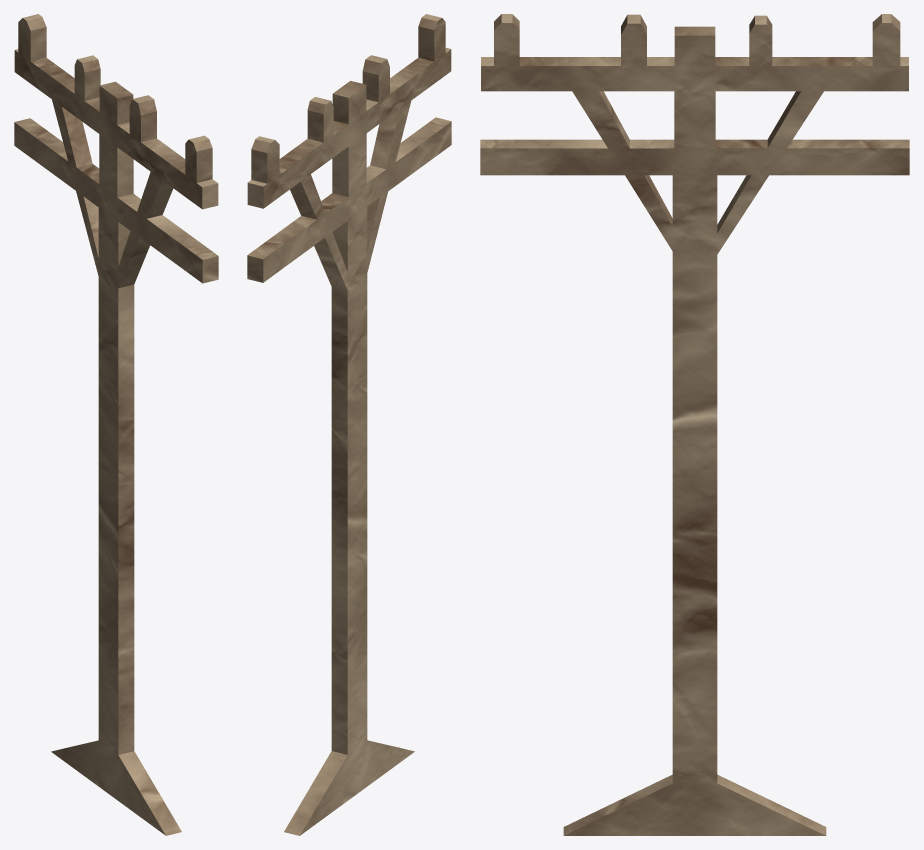
File: POTEAU.fbx
3 renders of one model, left to right at view 1: azimuth 30°, elevation 25°; view 2: azimuth 150°, elevation 25°; view 3: azimuth 270°, elevation 25°, orthographic. The views are drawn at different scales.
Parts seen in each view (by area): view 1: Plane; view 2: Plane; view 3: Plane.
Boxes of the visible parts, left/top/right/bottom form: Plane: left=14, top=14, right=218, bottom=835; Plane: left=247, top=14, right=451, bottom=835; Plane: left=480, top=14, right=909, bottom=835.
Size of the model in its own units: 12.33 by 525 by 251.
Materials: 1 (1 with a texture image).
